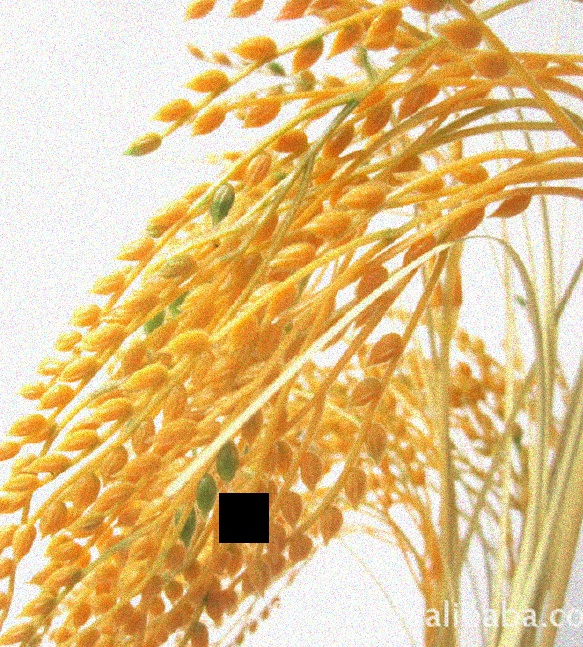rice: (5, 13, 534, 632)
